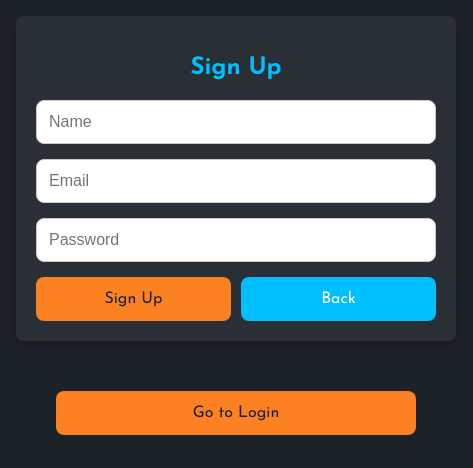
Scenario: displays error message on duplicate email
Type "Existing User" into the field with placeholder "Name".
click(236, 122); type("Existing User")  # box [36,100,436,144]
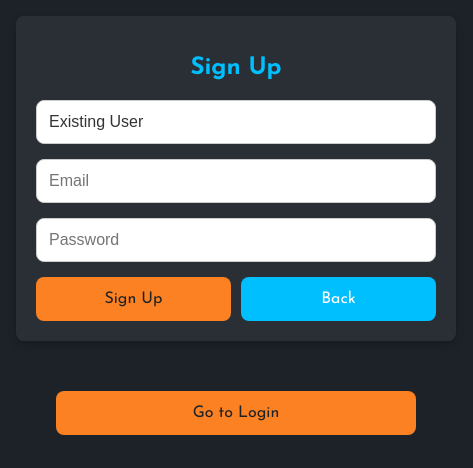
Type "existing@example.com" into the field with placeholder "Email".
click(236, 181); type("existing@example.com")  # box [36,159,436,203]
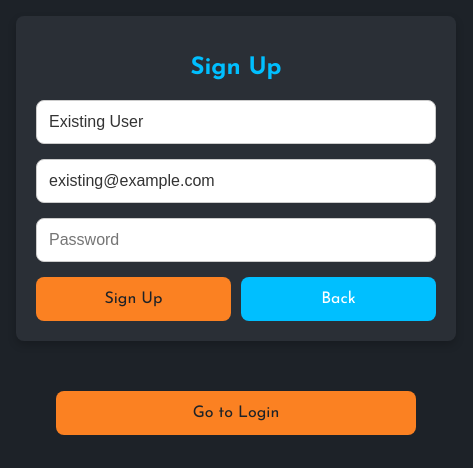
Type "password123" into the password field with placeholder "Password".
click(236, 240); type("password123")  # box [36,218,436,262]
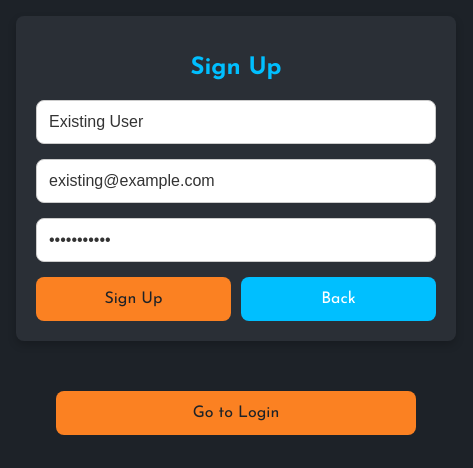
Click the button "Sign Up".
click(134, 299)  # box [36,277,231,321]
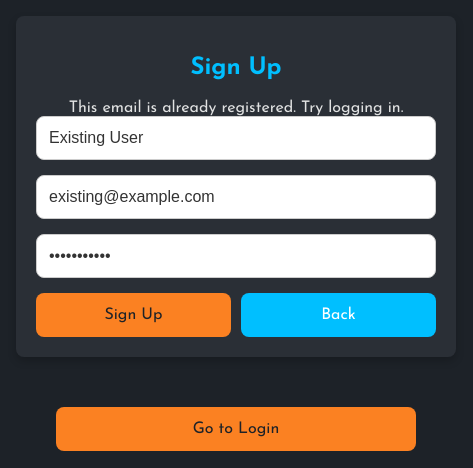
Result: the text "This email is already registered. Try logging in." is shown at [69,100,403,116]
